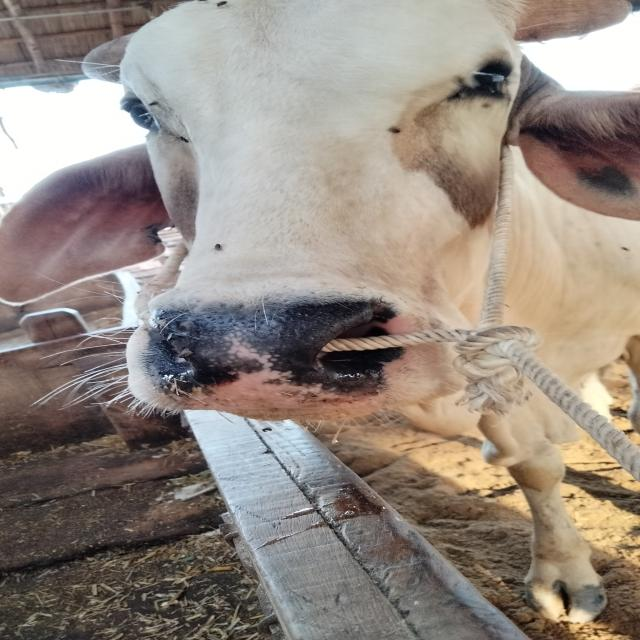muzzles: (119, 292, 423, 420)
